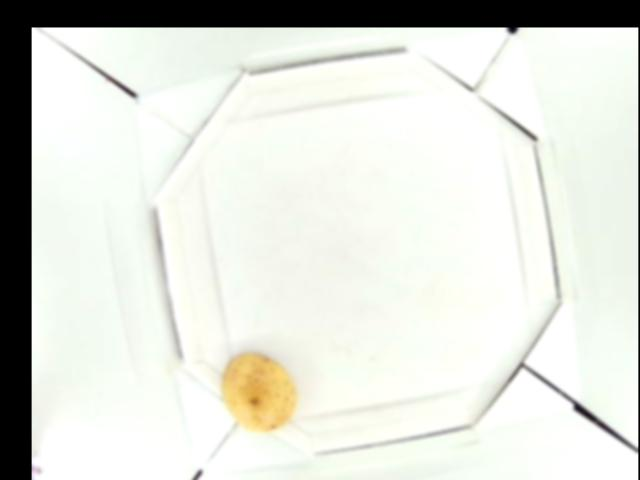Potato: (224, 352, 297, 433)
